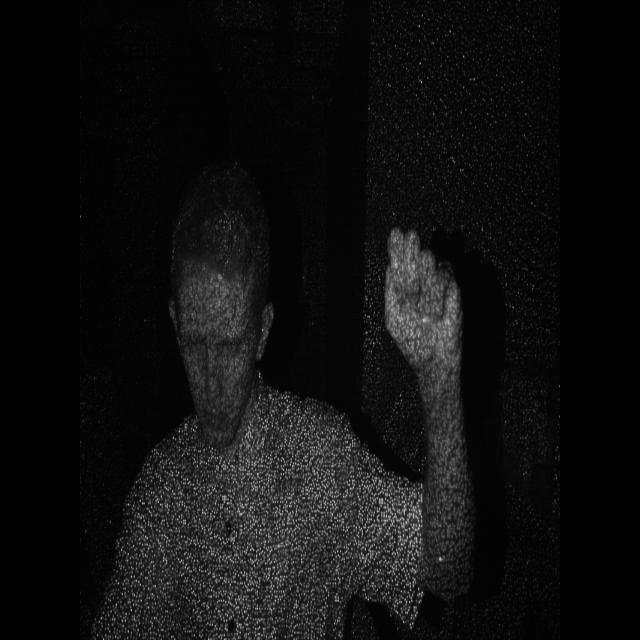N: (380, 216, 483, 416)
